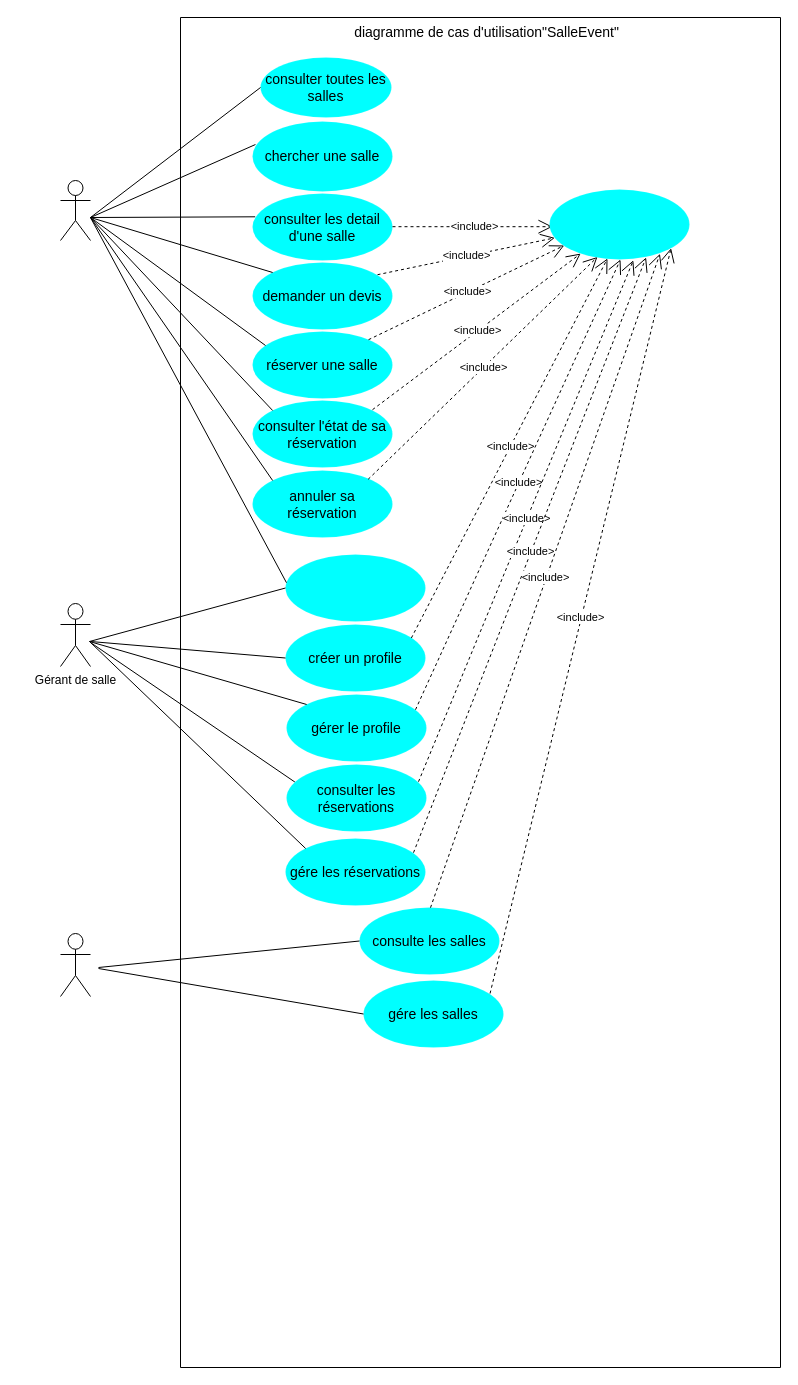
Some shapes in this 798 by 1385 pixel diagram are drawn without their labels. The shapes that lost their labels are listed below. From the top down, each one's centre as x and y in pixels, then its label:
pixel 75 210: Utilisateur
pixel 619 224: authentification
pixel 355 587: s'enregistrer
pixel 75 964: Admin de l'application
